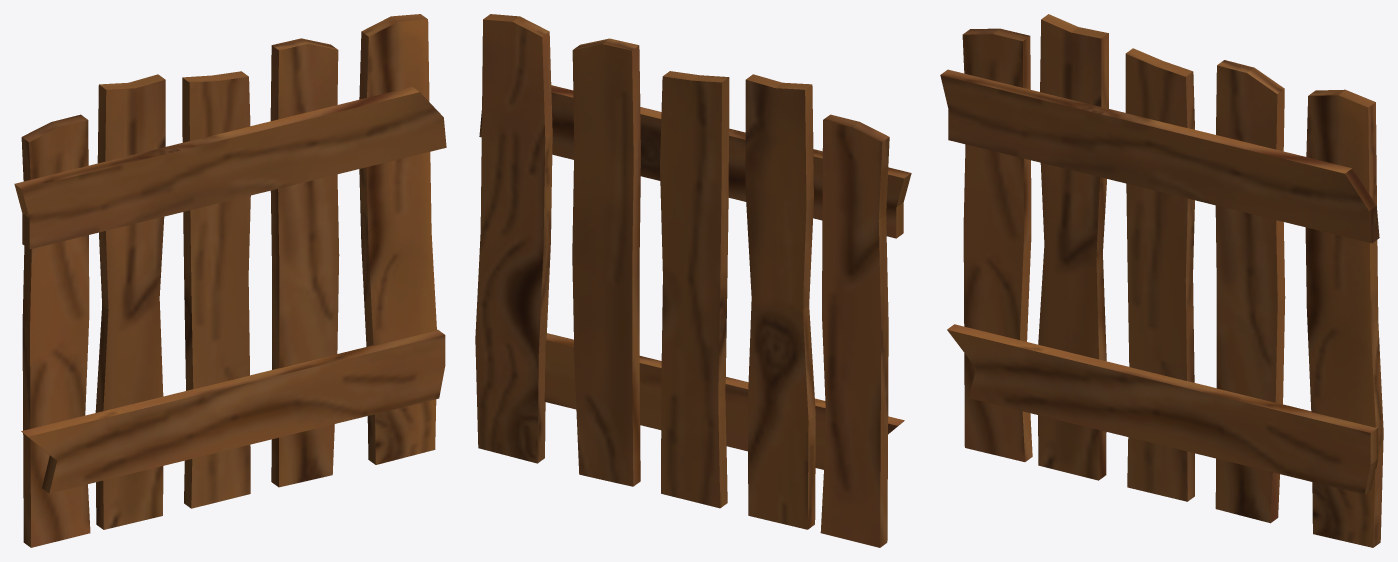
Rendered from fence_1.fbx.
3 renders of one model, left to right at view 1: azimuth 30°, elevation 25°; view 2: azimuth 150°, elevation 25°; view 3: azimuth 330°, elevation 25°, orthographic.
Parts seen in each view (by area): view 1: fence 4; view 2: fence 4; view 3: fence 4.
Part boxes in pixels (left/top/right/bottom): fence 4: left=14, top=14, right=446, bottom=547; fence 4: left=475, top=14, right=911, bottom=547; fence 4: left=940, top=14, right=1383, bottom=547.
Bounding box in the file's own units: 114 × 112 × 6.92.
1 material, 1 textured.
